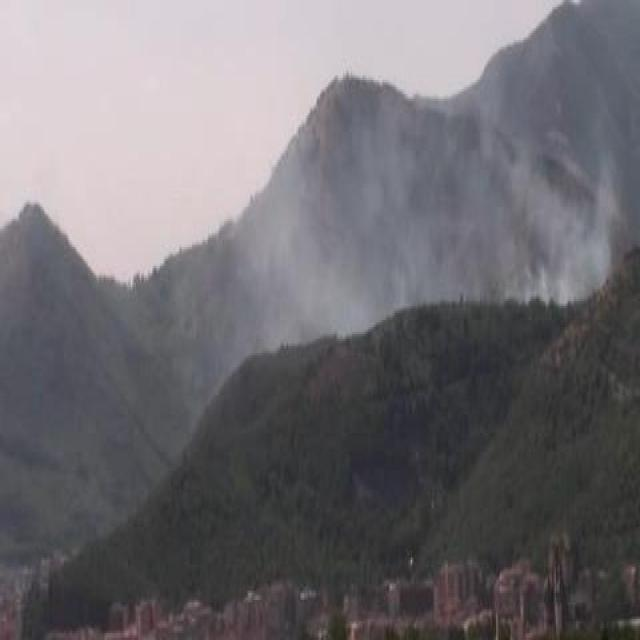Smoke: (262, 159, 607, 307)
